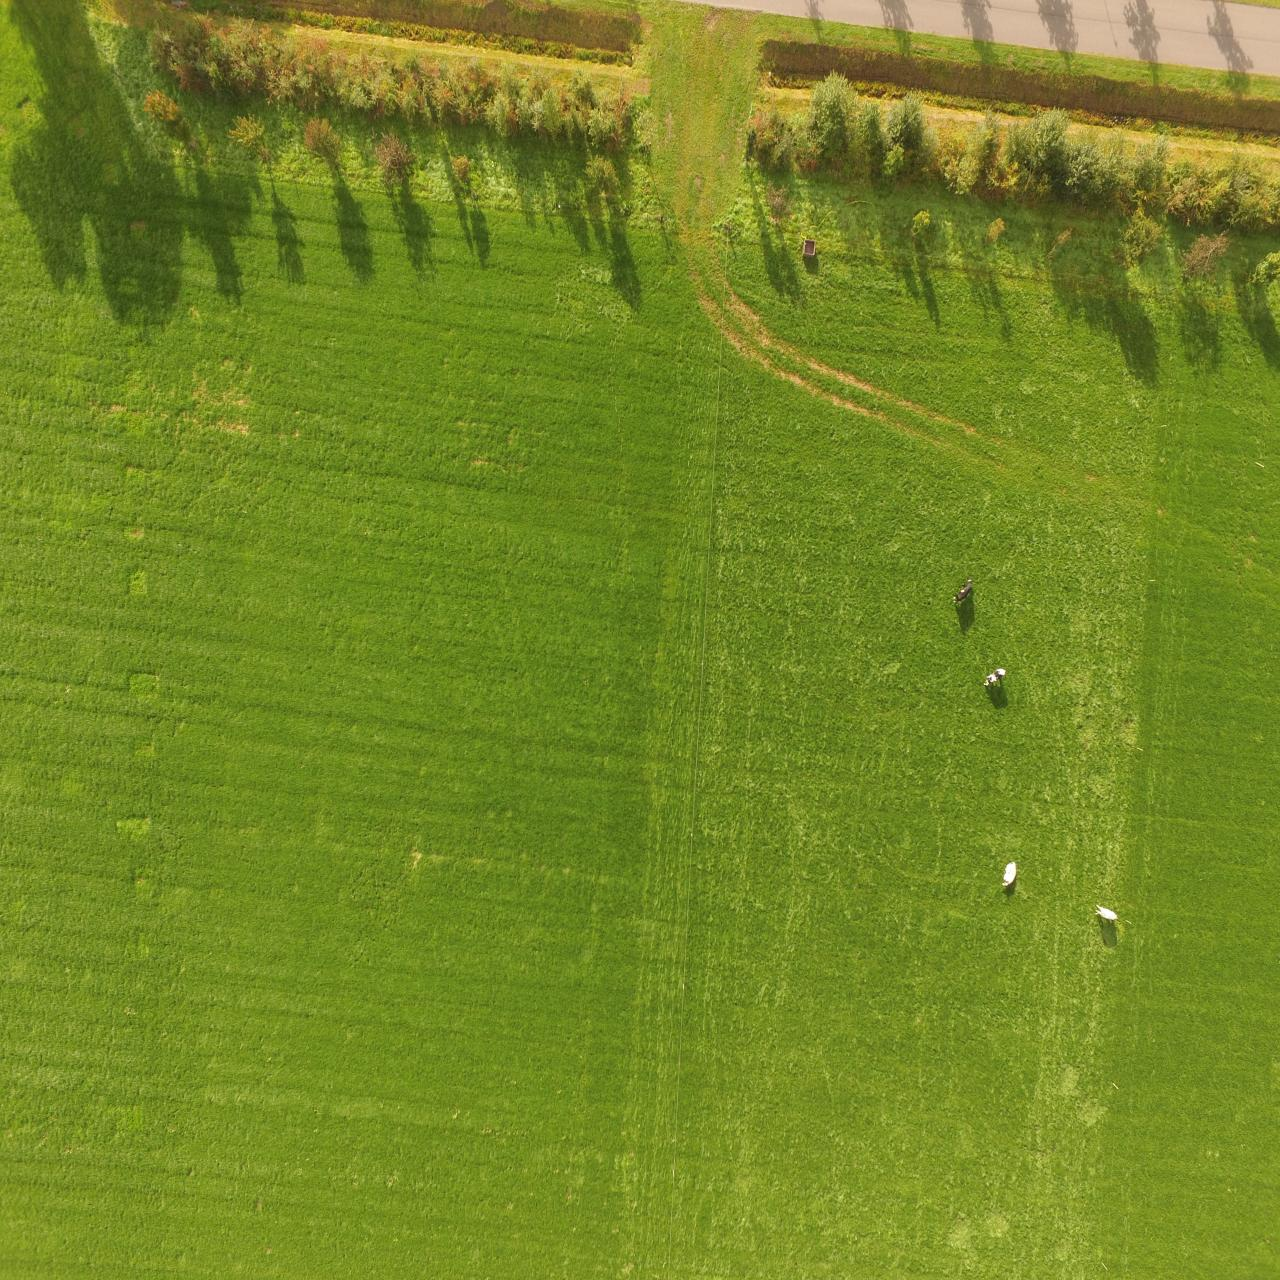cow: (980, 661, 1008, 694), (949, 573, 974, 611), (998, 856, 1019, 892), (1092, 900, 1119, 927)
